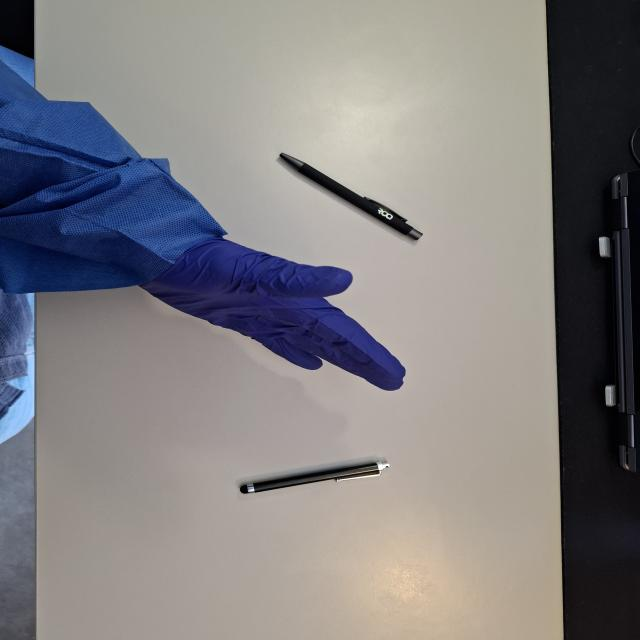glove_on: (127, 234, 403, 386)
